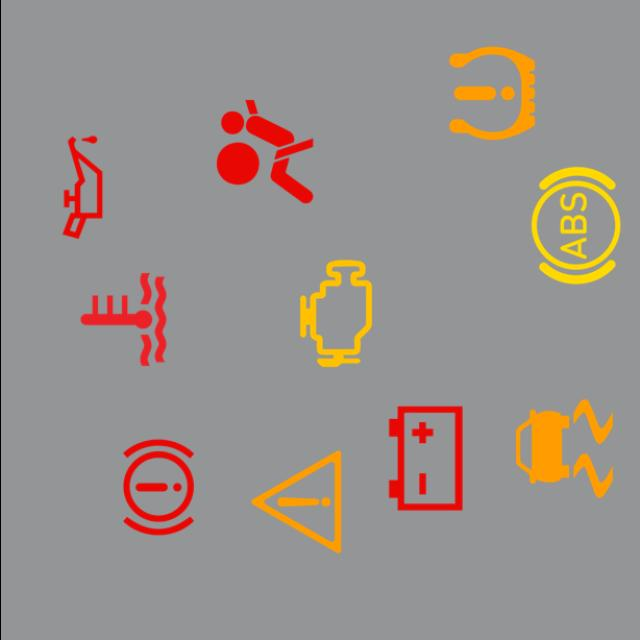Anti Lock Braking System: (511, 162, 639, 290)
Braking System Issue: (94, 424, 222, 552)
Charging System Issue: (361, 394, 489, 522)
Check Engine: (271, 249, 399, 377)
Electronic Stability Problem -ESP-: (500, 384, 628, 512)
Engine Overheating Warning Light: (58, 255, 186, 384)
Low Engine Oil Warning Light: (18, 123, 146, 251)
Low Tire Pressure Warning Light: (428, 29, 556, 158)
Master warning light: (232, 438, 360, 566)
SRS-Airbag: (200, 88, 328, 216)
